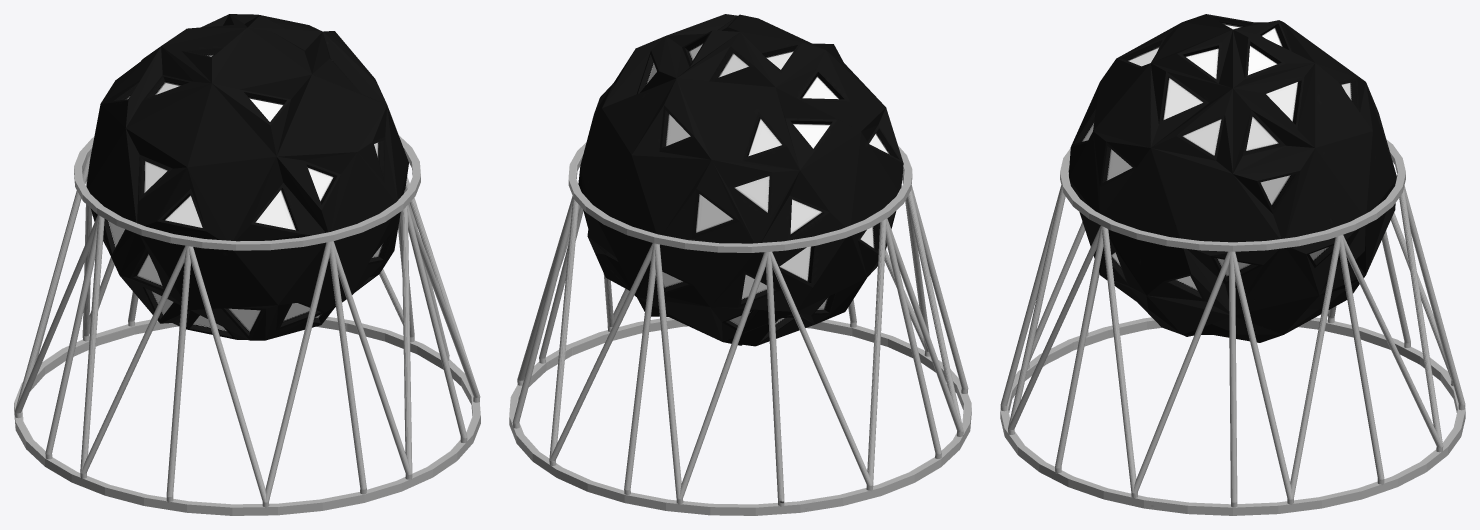
Rendered from star_decor.glb.
3 renders of one model, left to right at view 1: azimuth 30°, elevation 25°; view 2: azimuth 150°, elevation 25°; view 3: azimuth 270°, elevation 25°, orthographic.
Visible parts, largest first — view 1: Stars; view 2: Stars; view 3: Stars.
Part boxes in pixels (bbox=[...]): Stars: bbox=[14, 14, 480, 515]; Stars: bbox=[509, 14, 971, 515]; Stars: bbox=[1000, 14, 1465, 515].
Bounding box in the file's own units: 0.2259 × 0.2089 × 0.2259.
Materials: 1 (1 with a texture image).
